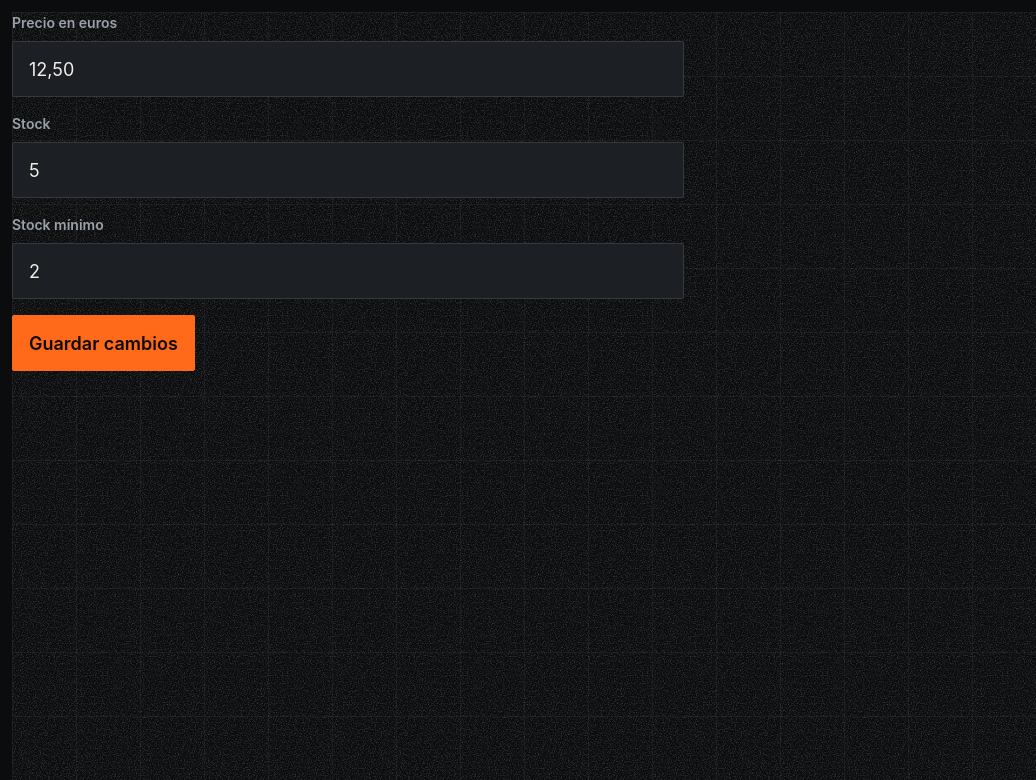
FormularioRecambio: cuando hay errores › [D-14] un fallo sin campo (un permiso, un recambio que ya no está) solo se dice arriba
Step 1. Click the button "Guardar cambios" → (103, 343), box [12, 315, 195, 371]
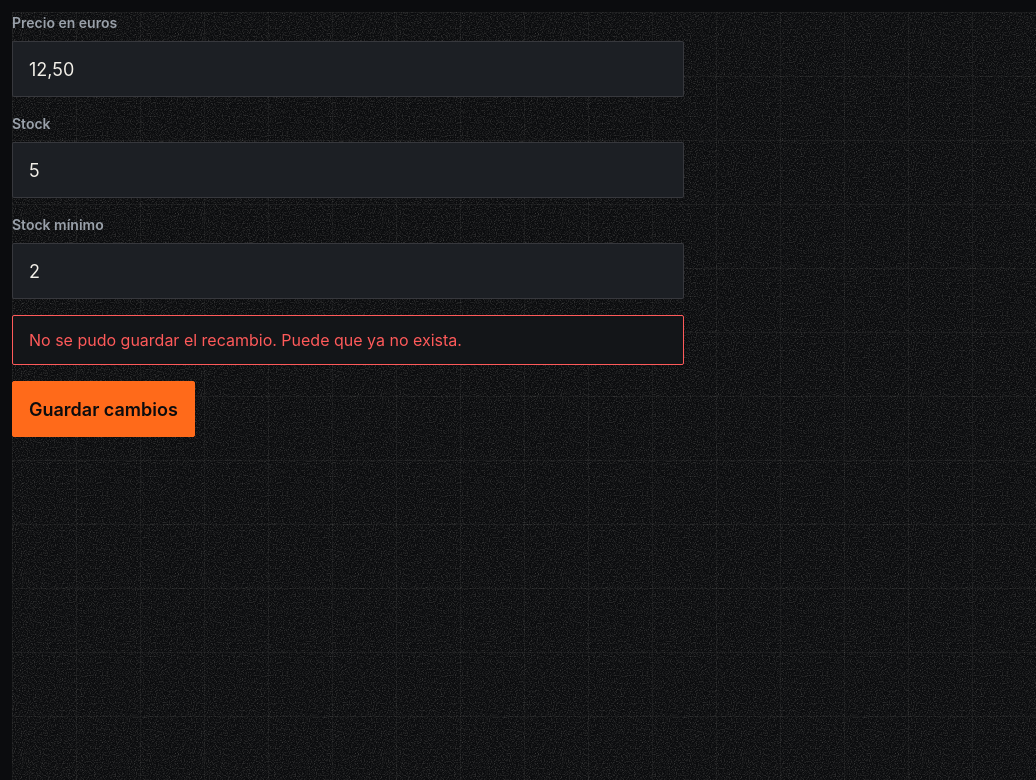
Expected: the message reads "No se pudo guardar el recambio. Puede que ya no exista.", [29, 330, 462, 350]
